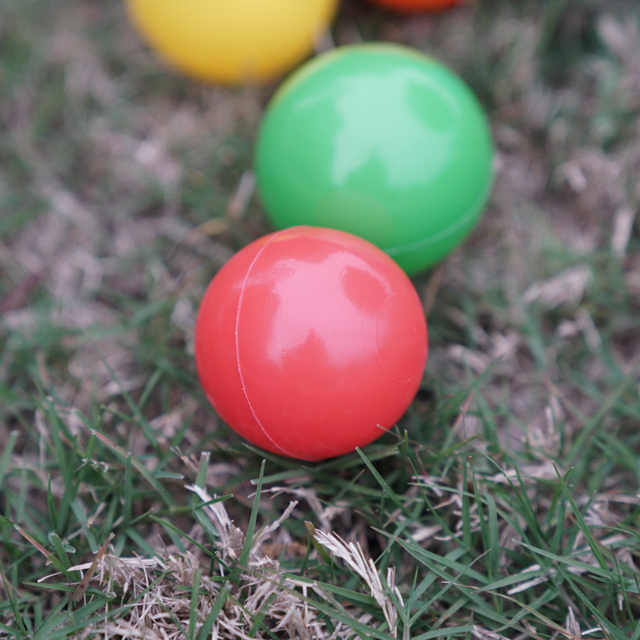Ball: (193, 223, 427, 469)
